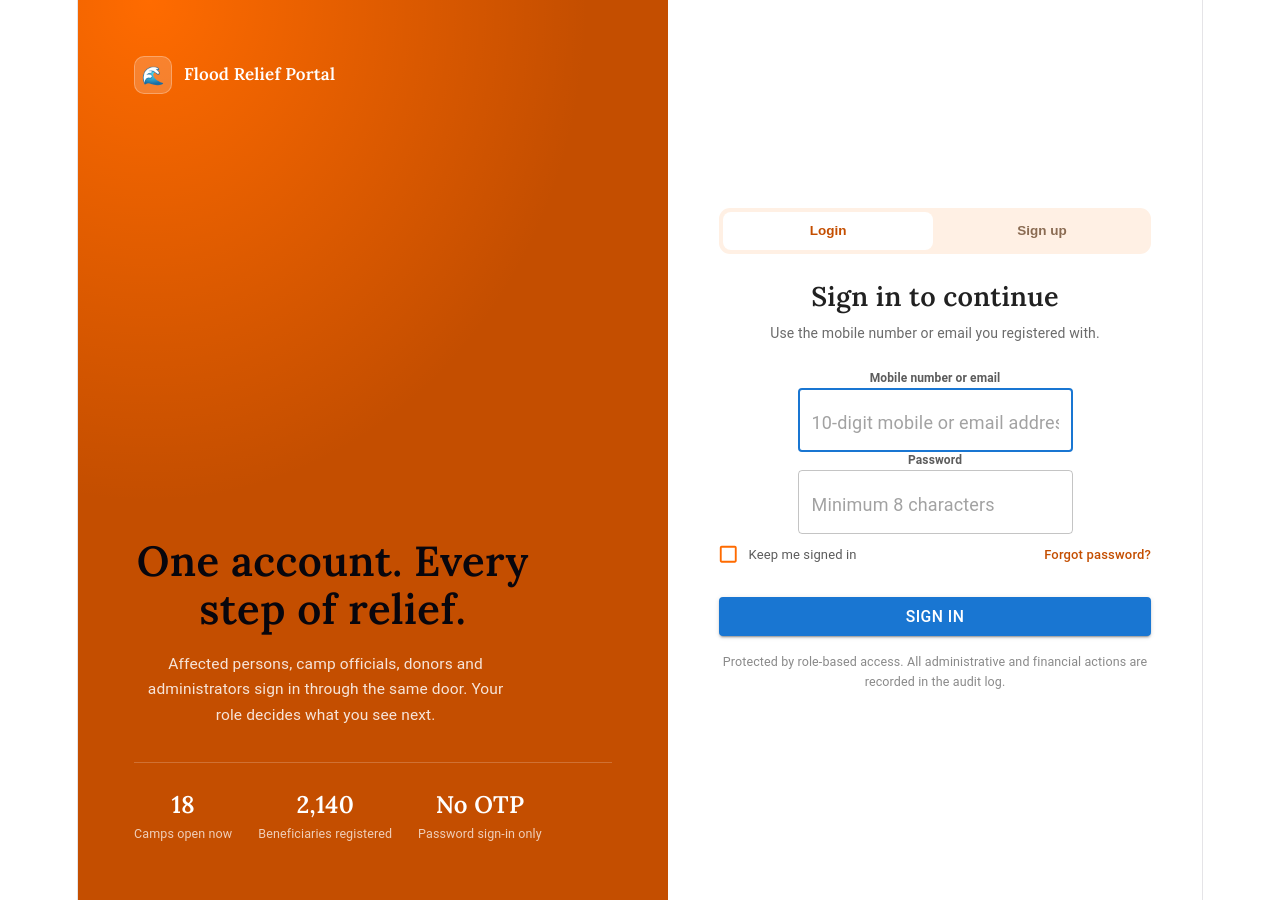
it: LoginPage › explains a pending camp official account rather than showing a bare error
The width and height of the screenshot is (1280, 900).
Step 1. Type "9876543212" into the field labelled "Mobile number or email" → (935, 423), box left=798, top=393, right=1072, bottom=452
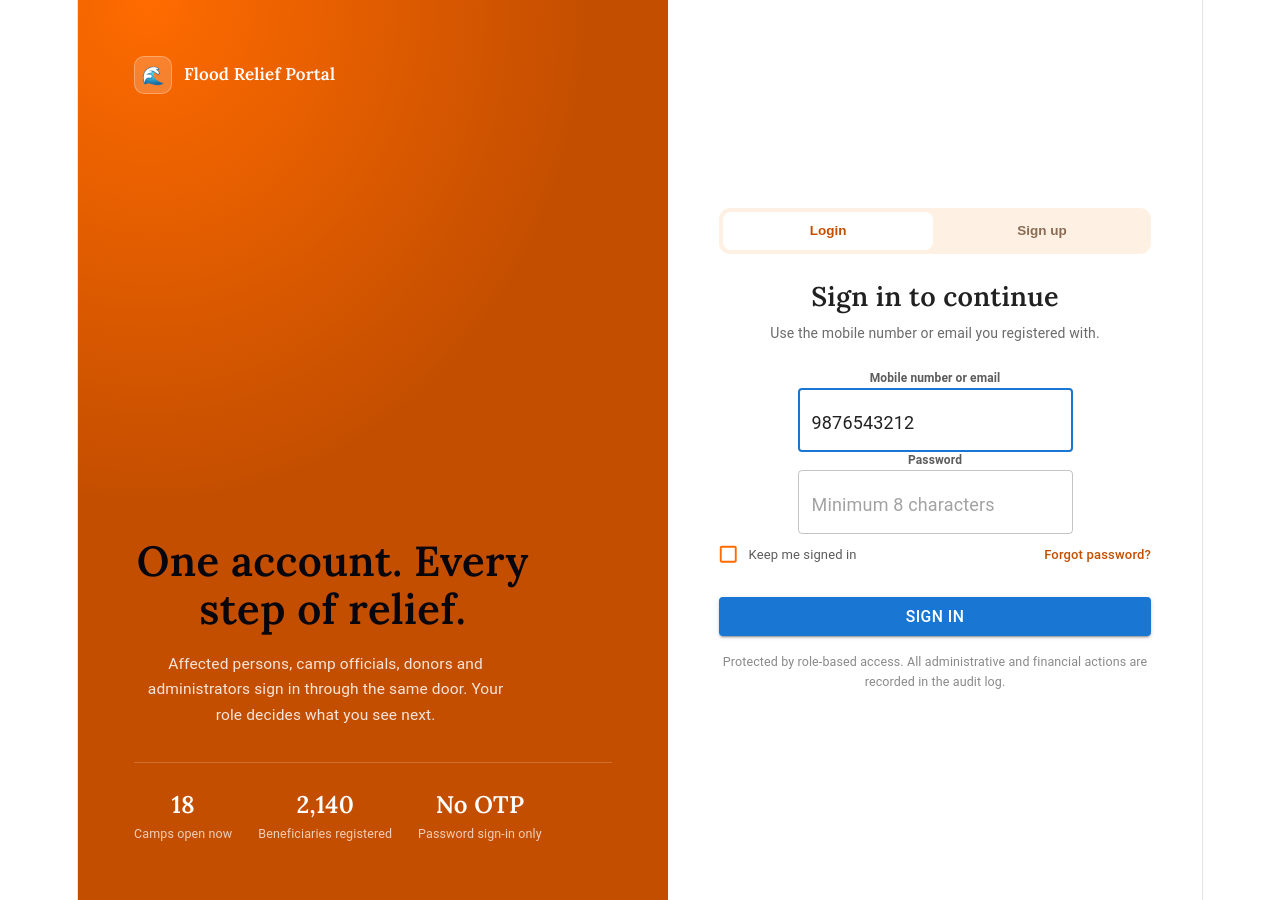
Step 2. Type "correct horse battery" into the password field labelled "Password" → (935, 505), box left=798, top=475, right=1072, bottom=534
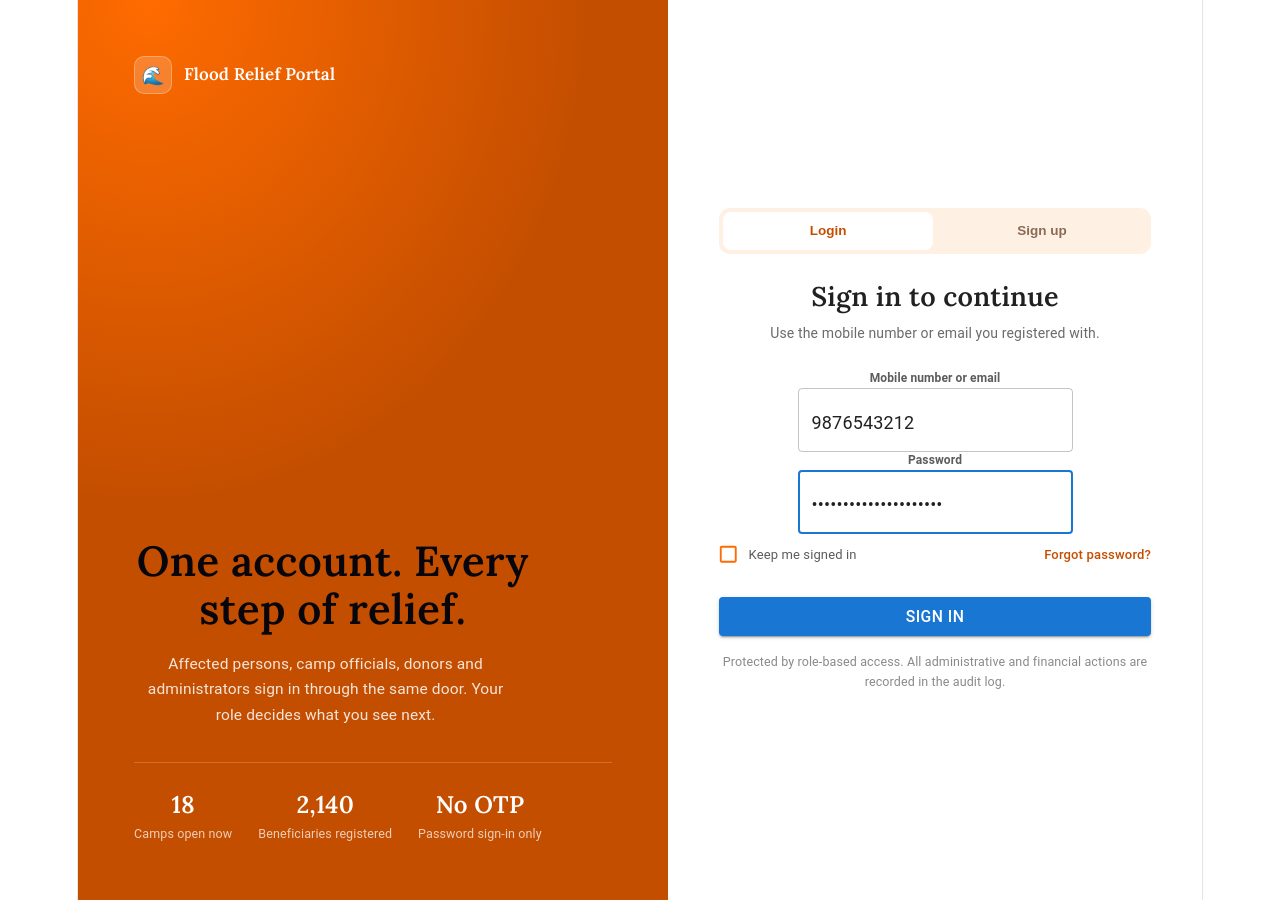
Step 3. Click the button "Sign in" → (935, 616), box left=719, top=597, right=1151, bottom=636
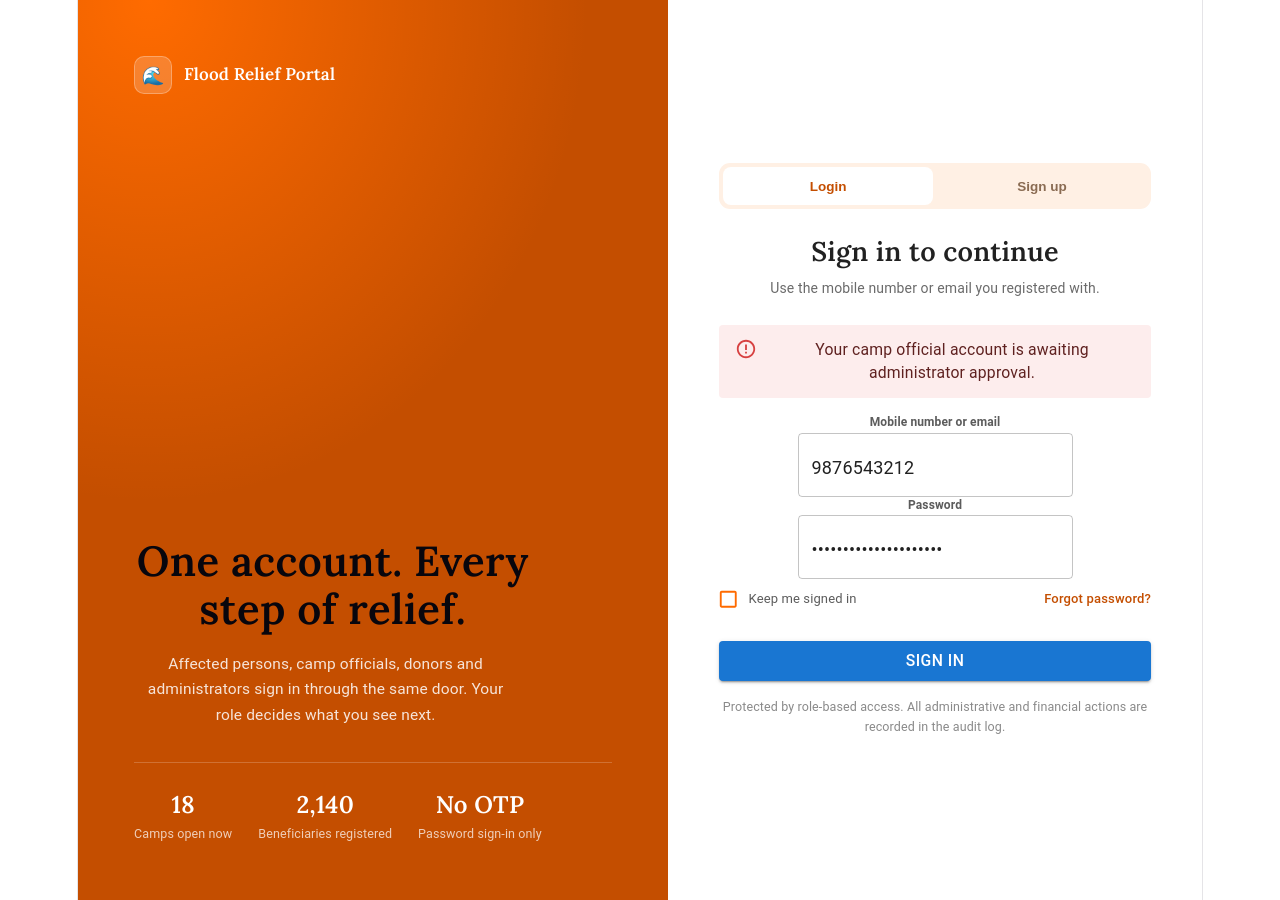
Now the text "awaiting administrator approval" is shown, box left=815, top=340, right=1089, bottom=382
